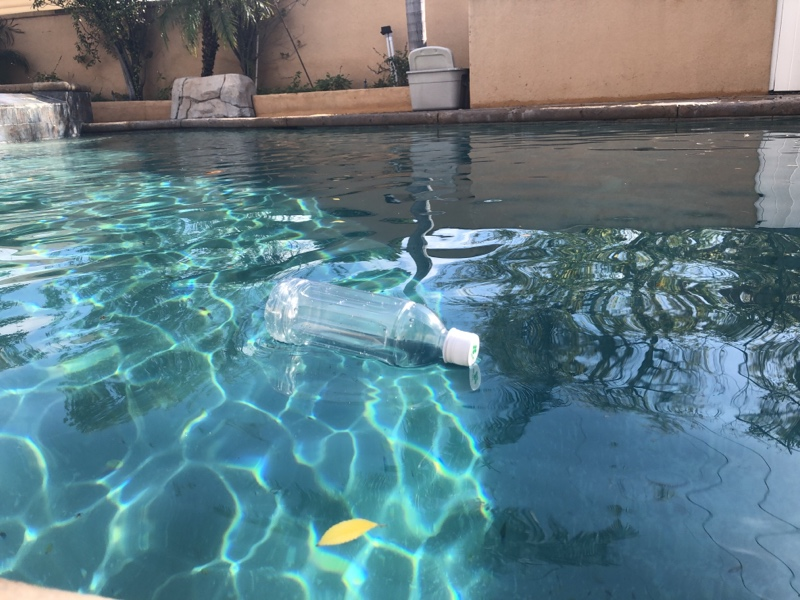Plastic Bottle: (261, 274, 481, 378)
